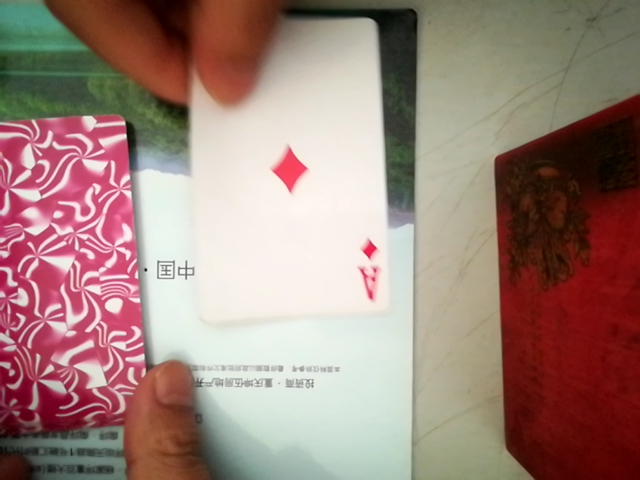fk a: (187, 11, 395, 329)
